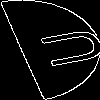U: (25, 25, 100, 72)
